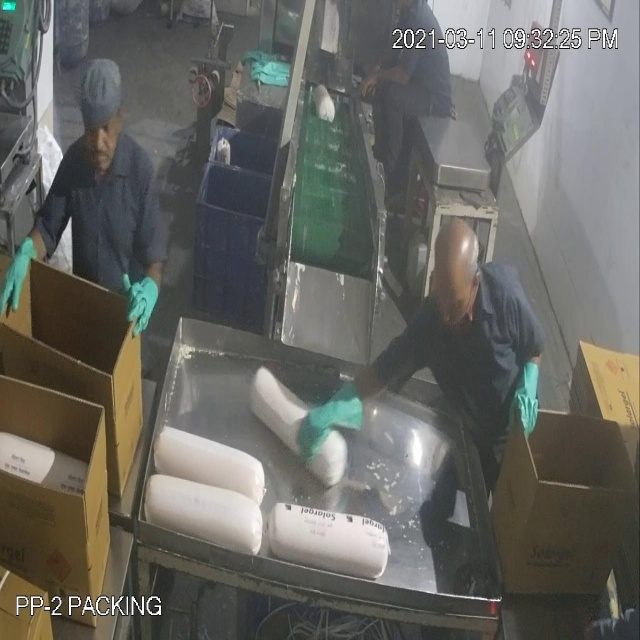Guantes: (291, 386, 371, 470), (114, 266, 173, 349), (505, 352, 544, 452), (0, 246, 40, 320)
Sin_guantes: (355, 54, 420, 109)
